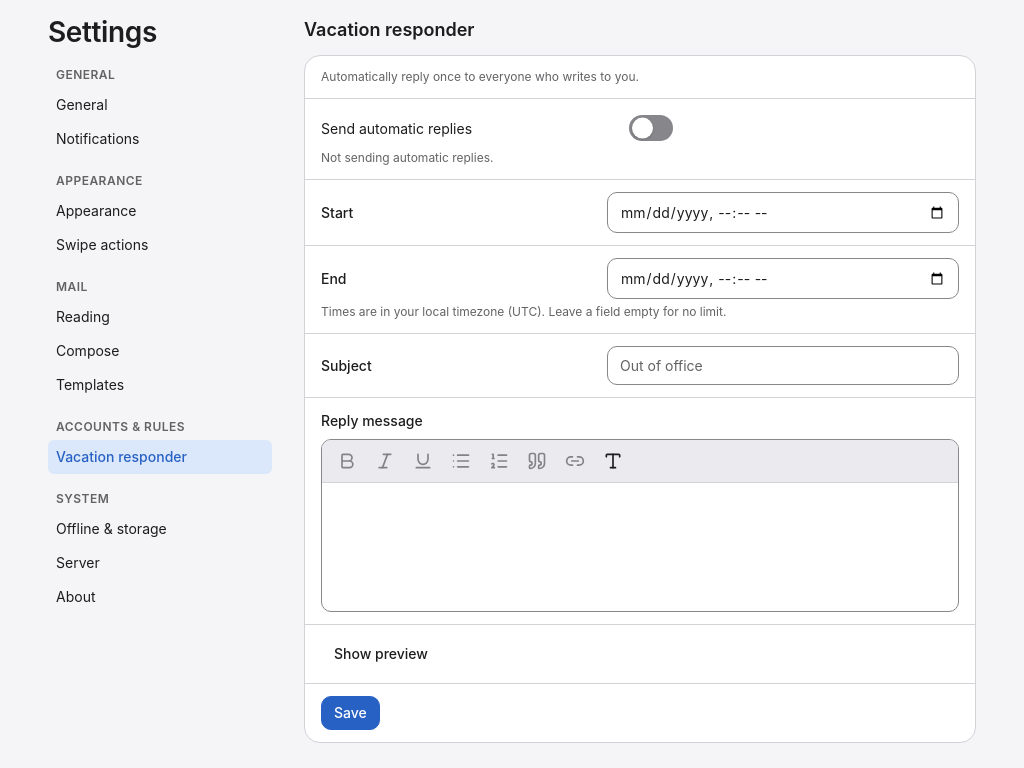
it: leaving a settings section with unsaved input › goes where the reader asked once they have confirmed
The image size is (1024, 768).
What coordinates should you click on to do the following:
click the link "Vacation responder"
I would click on:
 (160, 457)
Its box is [48,440,272,474].
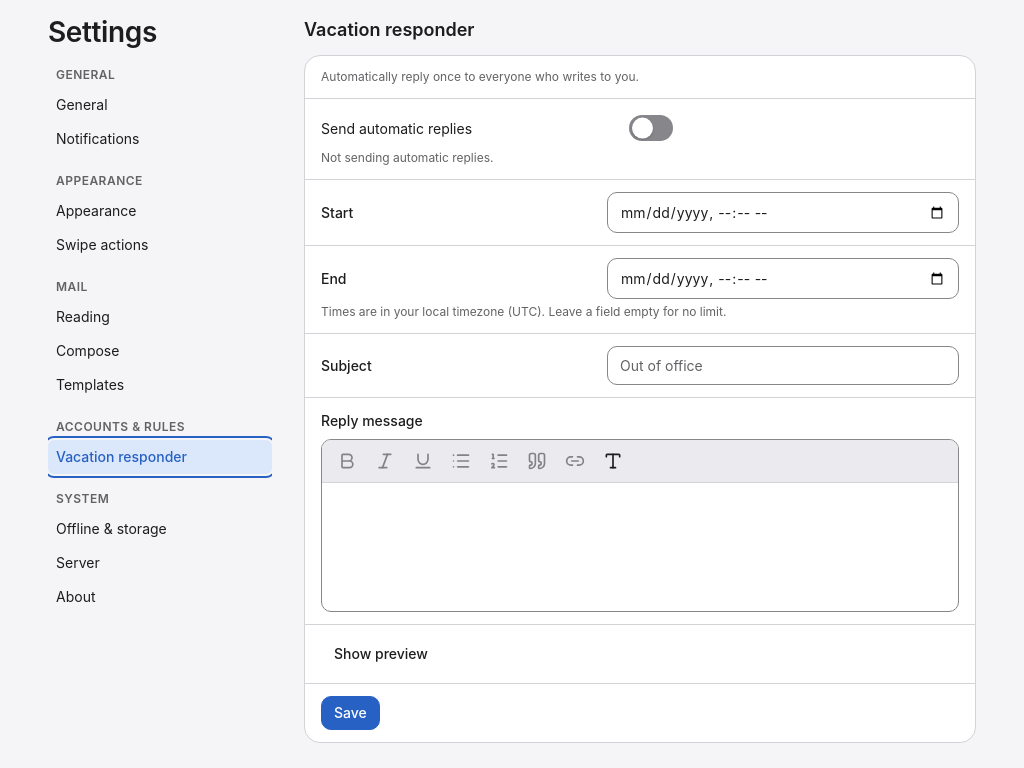
What coordinates should you click on to do the following:
click the switch named "Send automatic replies"
I would click on:
 (651, 128)
Its box is [629,111,673,145].
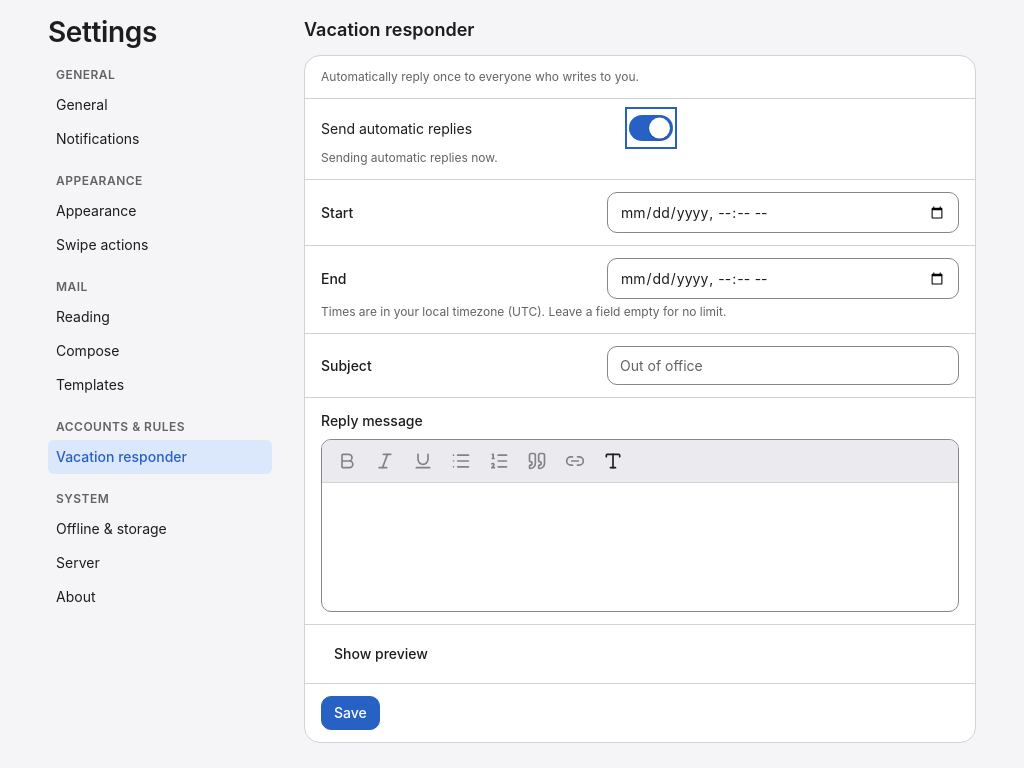
What coordinates should you click on to do the following:
click the link "General"
I would click on:
 (82, 105)
Its box is [56,96,108,113].
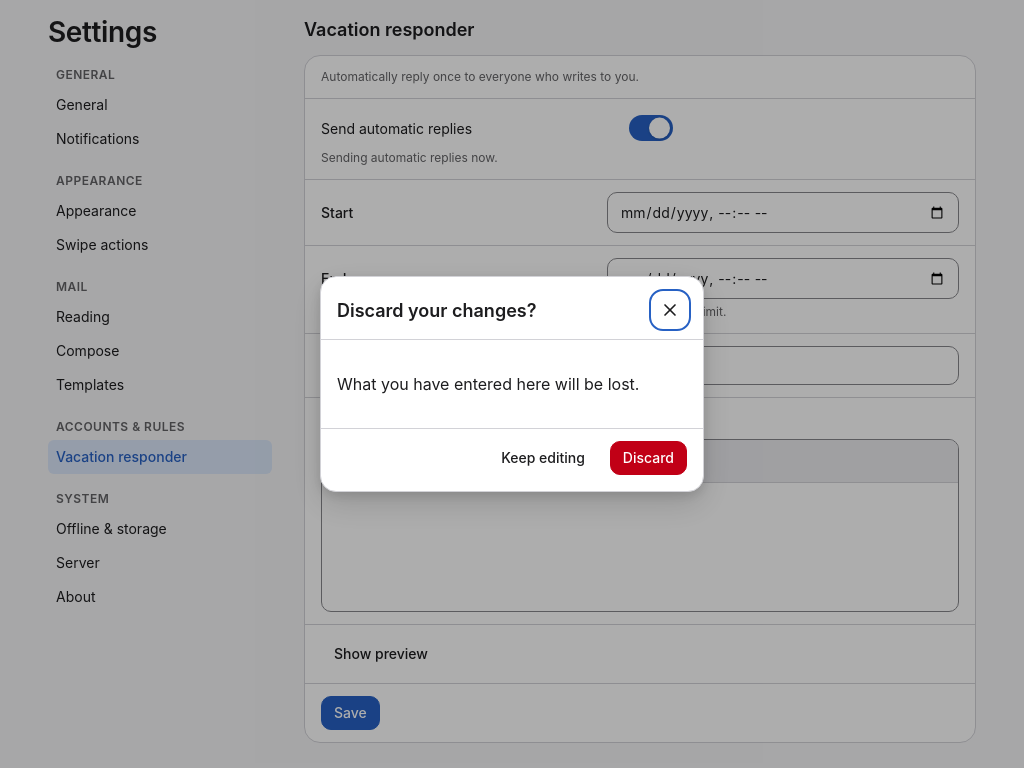
What coordinates should you click on to do the following:
click the button "Discard"
I would click on:
 (648, 458)
Its box is [610,441,687,475].
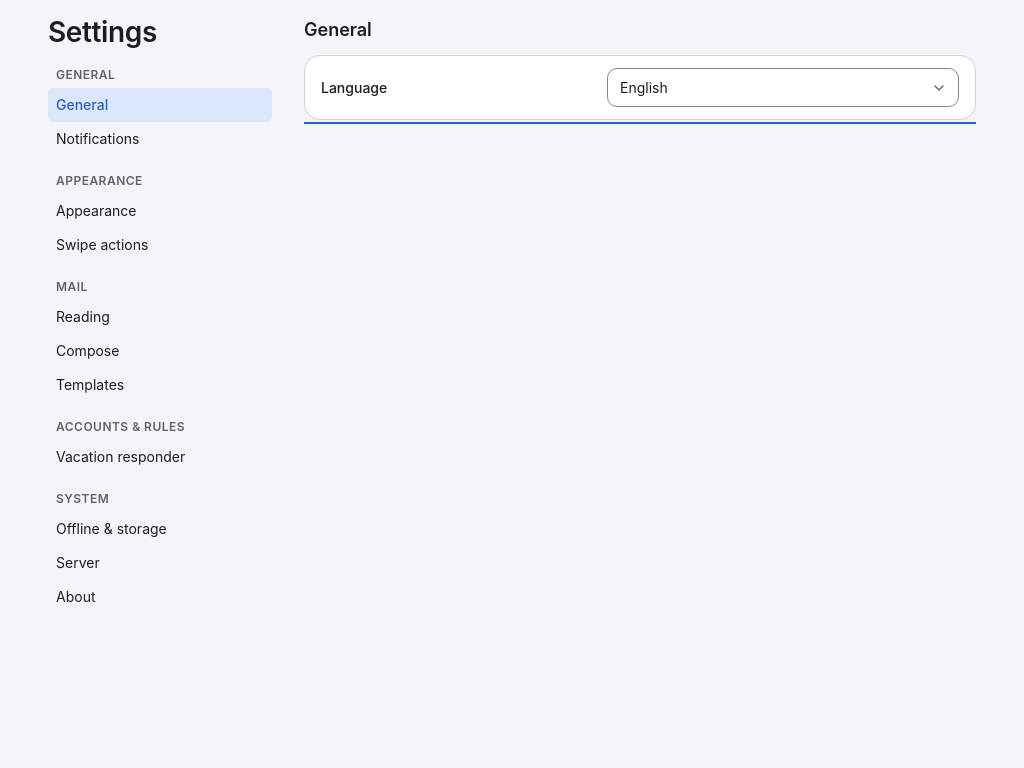
Result: the dropdown labelled "Language" is shown at [607,68,959,107]
Result: the text labelled "Send automatic replies" is gone
